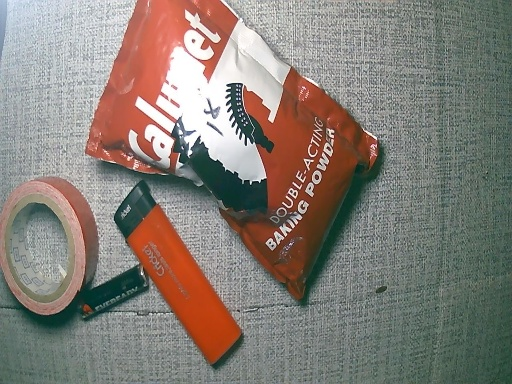metal: (80, 266, 146, 330)
plastic: (95, 1, 394, 299)
trash: (109, 184, 245, 365), (1, 174, 99, 319)
